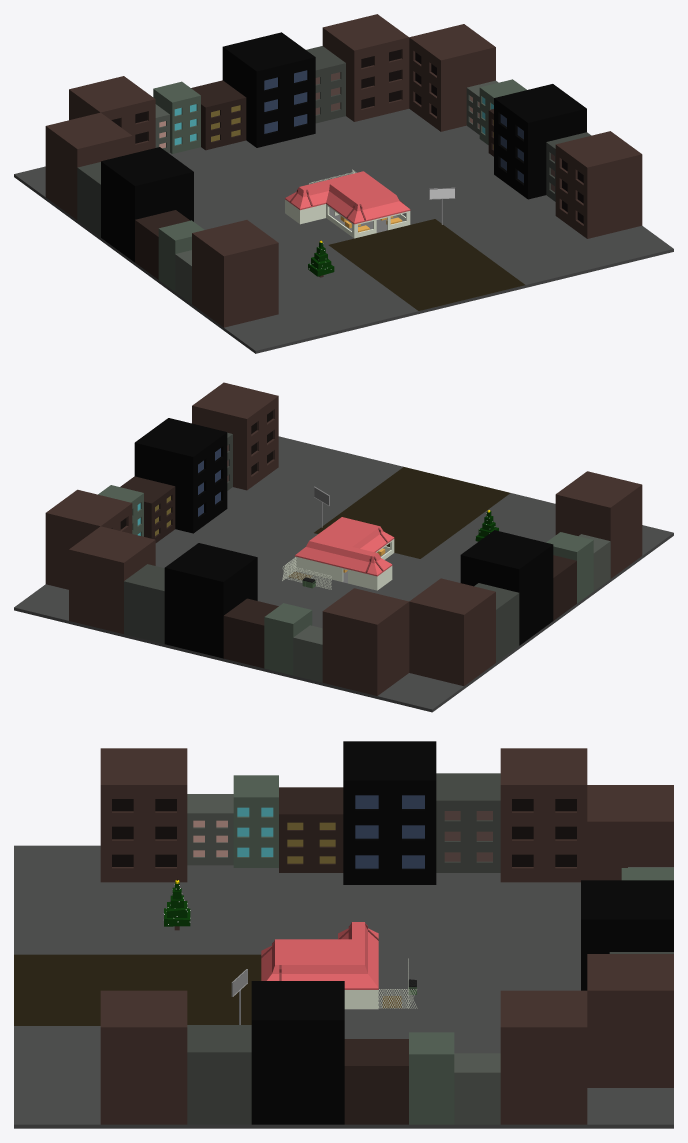
Rendered from restaurant_furnishing_xmas2.glb.
The picture shows the model from 3 angles, top to bottom: view 1: azimuth 30°, elevation 25°; view 2: azimuth 150°, elevation 25°; view 3: azimuth 270°, elevation 25°; orthographic projection. The views are drawn at different scales.
Visible parts, largest first — view 1: ground, building.002, building.014, building.011, building.016, building.018, building, building.009, building.007, building.004, roof, building.003 (+12 smaller); view 2: ground, building.004, building.007, building.002, building.016, building, building.009, building.011, building.014, building.018, roof, building.001 (+11 smaller); view 3: ground, building.009, building.016, building.014, building.018, building.011, building.007, building, building.004, building.002, building.008, building.015 (+11 smaller).
Boxes of the visible parts, bbox=[...] form: ground: bbox=[14, 109, 673, 353]; building.002: bbox=[222, 32, 315, 147]; building.014: bbox=[555, 131, 642, 238]; building.011: bbox=[192, 220, 278, 327]; building.016: bbox=[494, 84, 586, 199]; building.018: bbox=[409, 24, 495, 131]; building: bbox=[322, 14, 409, 121]; building.009: bbox=[101, 147, 193, 262]; building.007: bbox=[45, 112, 132, 219]; building.004: bbox=[69, 76, 155, 153]; roof: bbox=[285, 171, 410, 224]; building.003: bbox=[191, 80, 246, 150]; ground: bbox=[14, 436, 673, 712]; building.004: bbox=[322, 588, 409, 695]; building.007: bbox=[409, 578, 495, 686]; building.002: bbox=[164, 543, 257, 658]; building.016: bbox=[134, 418, 227, 533]; building: bbox=[69, 526, 155, 634]; building.009: bbox=[460, 530, 553, 645]; building.011: bbox=[555, 471, 642, 578]; building.014: bbox=[192, 382, 278, 490]; building.018: bbox=[45, 489, 132, 589]; roof: bbox=[295, 517, 394, 576]; building.001: bbox=[124, 564, 164, 643]; ground: bbox=[14, 845, 673, 1128]; building.009: bbox=[343, 741, 436, 884]; building.016: bbox=[251, 981, 344, 1124]; building.014: bbox=[100, 990, 187, 1124]; building.018: bbox=[500, 990, 587, 1124]; building.011: bbox=[100, 748, 187, 882]; building.007: bbox=[500, 748, 587, 882]; building: bbox=[587, 954, 673, 1087]; building.004: bbox=[587, 785, 673, 880]; building.002: bbox=[581, 880, 673, 990]; building.008: bbox=[436, 773, 500, 872]; building.015: bbox=[187, 1025, 251, 1124].
Size of the model in its own units: 135 by 24.5 by 135.
Materials: 41 (13 with a texture image).
